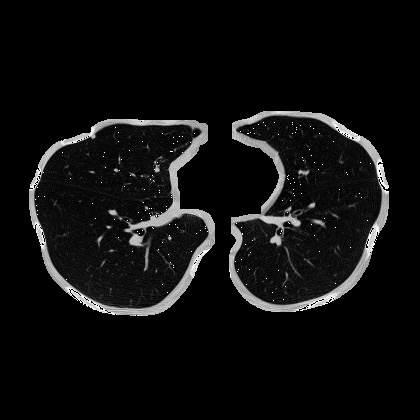PN: (91, 134, 95, 138)
